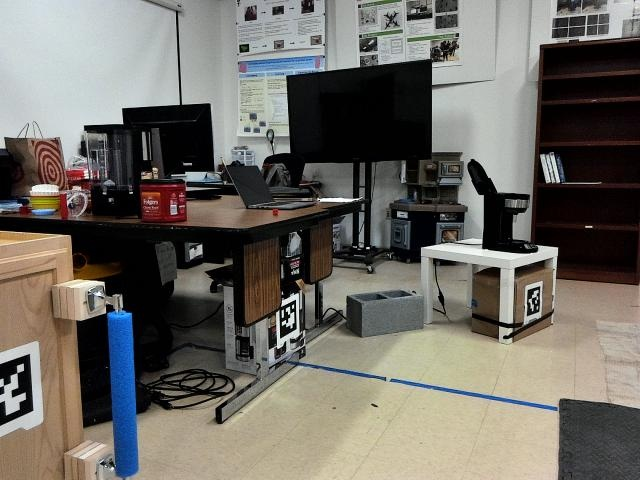noodle_handle: (93, 299, 148, 479)
